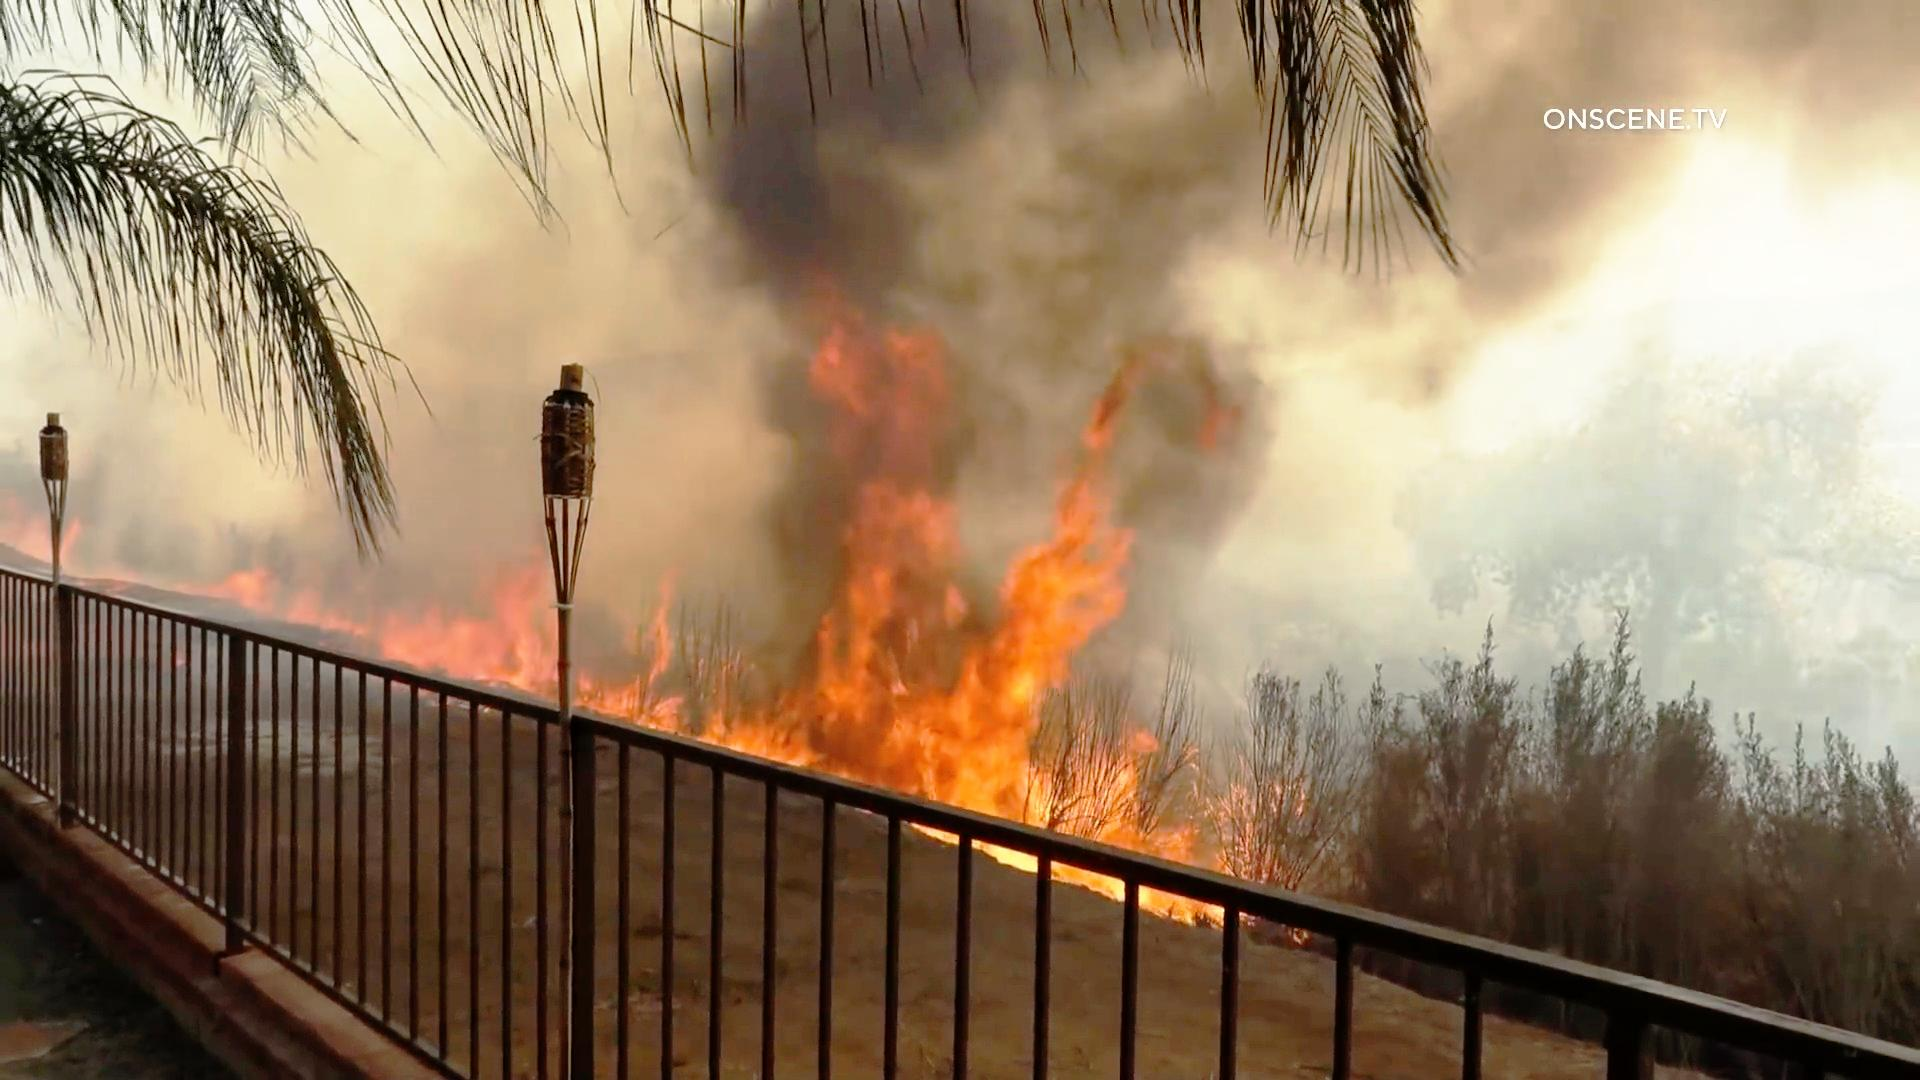fire: (943, 353, 1230, 811), (795, 278, 971, 778), (376, 580, 541, 682), (593, 611, 694, 719)
smoke: (705, 13, 1247, 286), (625, 306, 789, 579), (1486, 5, 1869, 88), (382, 195, 539, 360), (423, 393, 517, 545), (1476, 153, 1577, 281)
